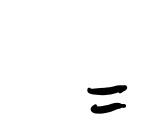eqv: (87, 85, 127, 113)
